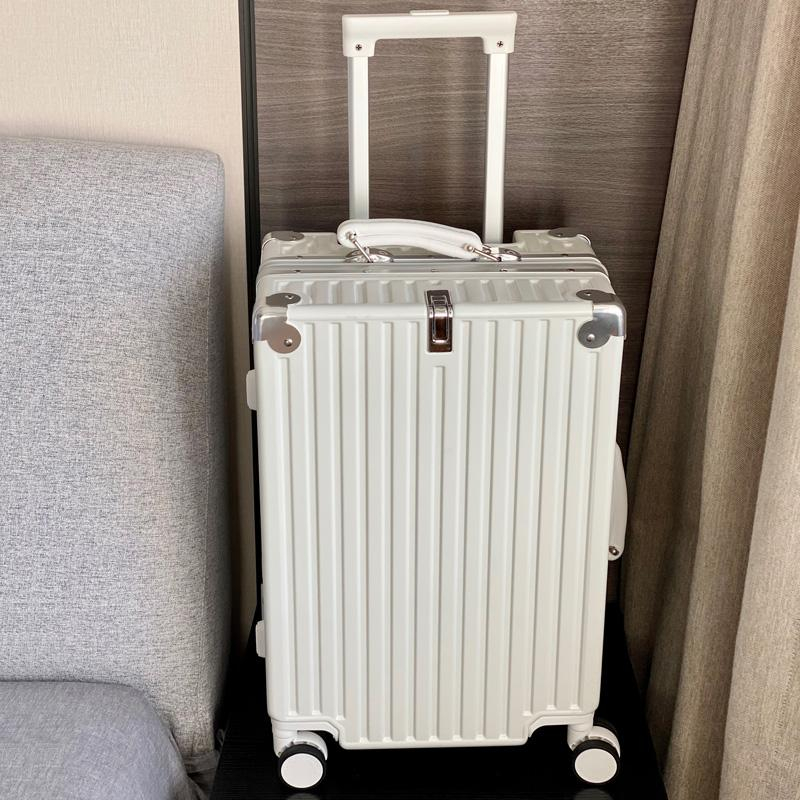box: (255, 231, 626, 752)
handle: (333, 218, 523, 266)
wheel: (565, 727, 620, 785), (274, 732, 328, 790)
